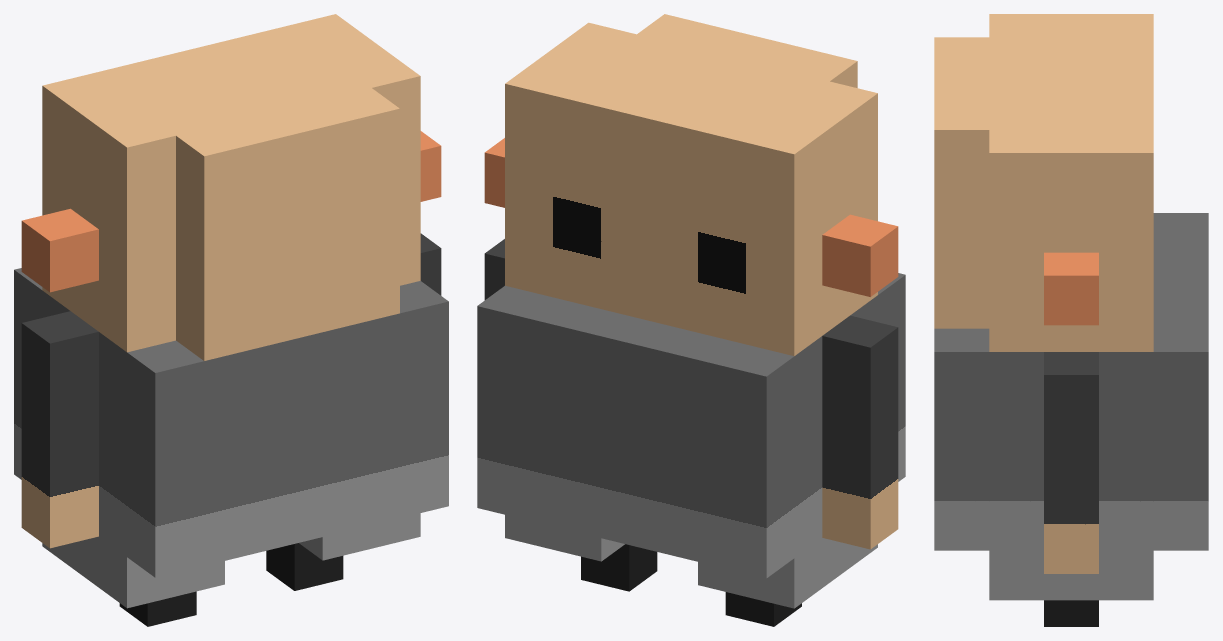
Rendered from chr_base.dae.
3 renders of one model, left to right at view 1: azimuth 30°, elevation 25°; view 2: azimuth 150°, elevation 25°; view 3: azimuth 270°, elevation 25°, orthographic. The views are drawn at different scales.
Parts seen in each view (by area): view 1: chr_base; view 2: chr_base; view 3: chr_base.
Boxes of the visible parts, <box> form: chr_base: <box>14,14,448,626</box>; chr_base: <box>477,14,905,626</box>; chr_base: <box>934,14,1208,626</box>.
Bounding box in the file's own units: 0.8 × 0.5 × 1.
Materials: 1 (1 with a texture image).
